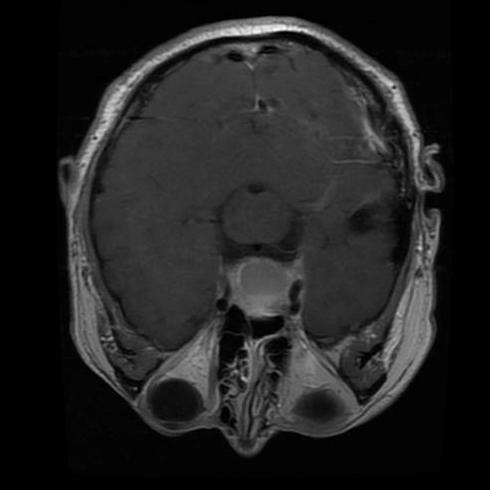Tumour-Pituitary: (209, 250, 307, 331)
